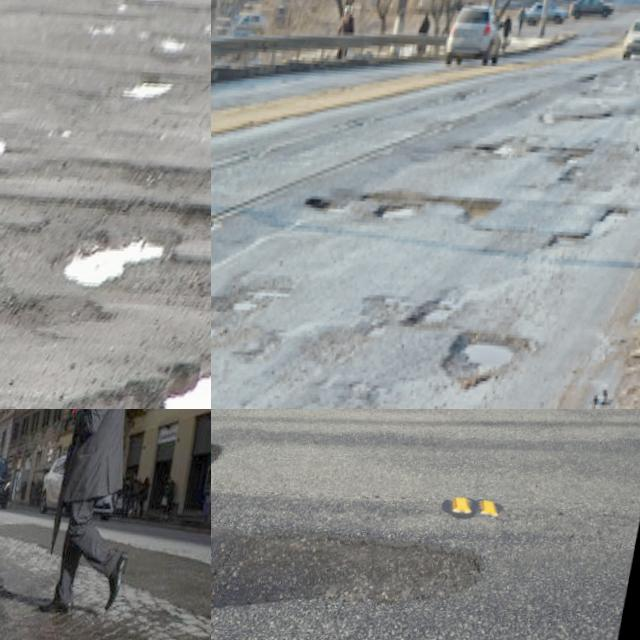Potholes: (362, 473, 556, 640), (290, 150, 522, 282), (211, 488, 400, 640), (0, 287, 211, 409), (298, 261, 470, 409), (53, 190, 191, 346), (420, 303, 549, 409), (211, 248, 303, 388), (539, 185, 640, 287), (516, 93, 613, 193), (107, 0, 202, 65), (211, 409, 258, 537), (0, 116, 26, 187), (618, 133, 640, 189)
